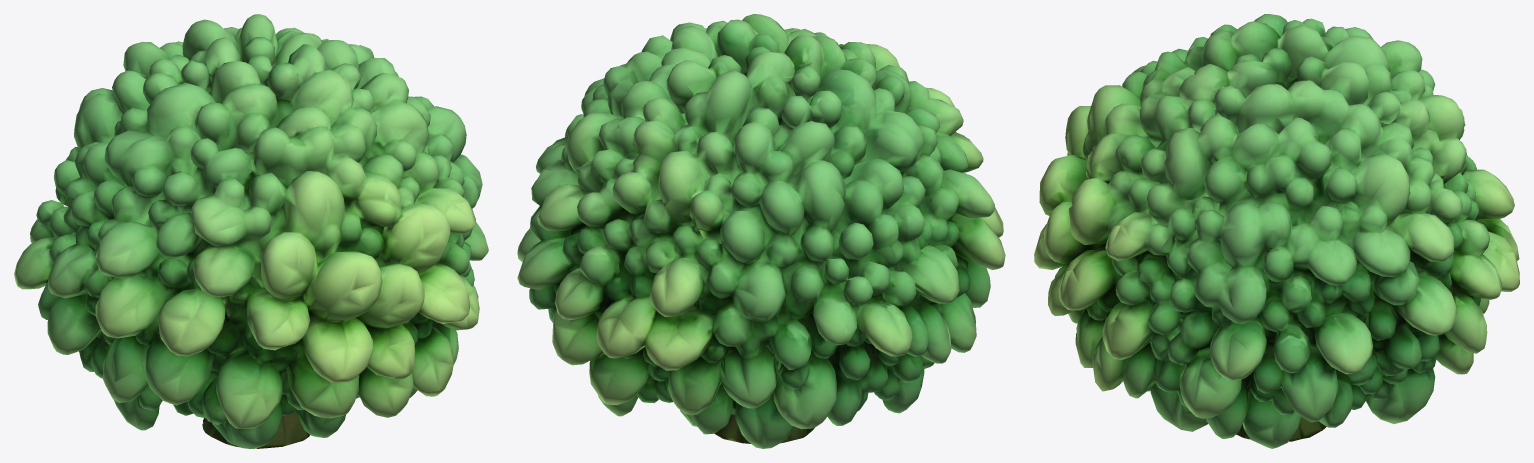
Rendered from bush.glb.
3 views of the same model, side by side, from view 1: azimuth 30°, elevation 25°; view 2: azimuth 150°, elevation 25°; view 3: azimuth 270°, elevation 25° (orthographic).
Parts seen in each view (by area): view 1: node_0; view 2: node_0; view 3: node_0.
Part boxes in pixels (left/top/right/bottom): node_0: left=14, top=14, right=488, bottom=448; node_0: left=517, top=14, right=1005, bottom=448; node_0: left=1034, top=14, right=1519, bottom=448.
Size of the model in its own units: 1.1 by 0.9823 by 1.14.
Materials: 1 (1 with a texture image).
